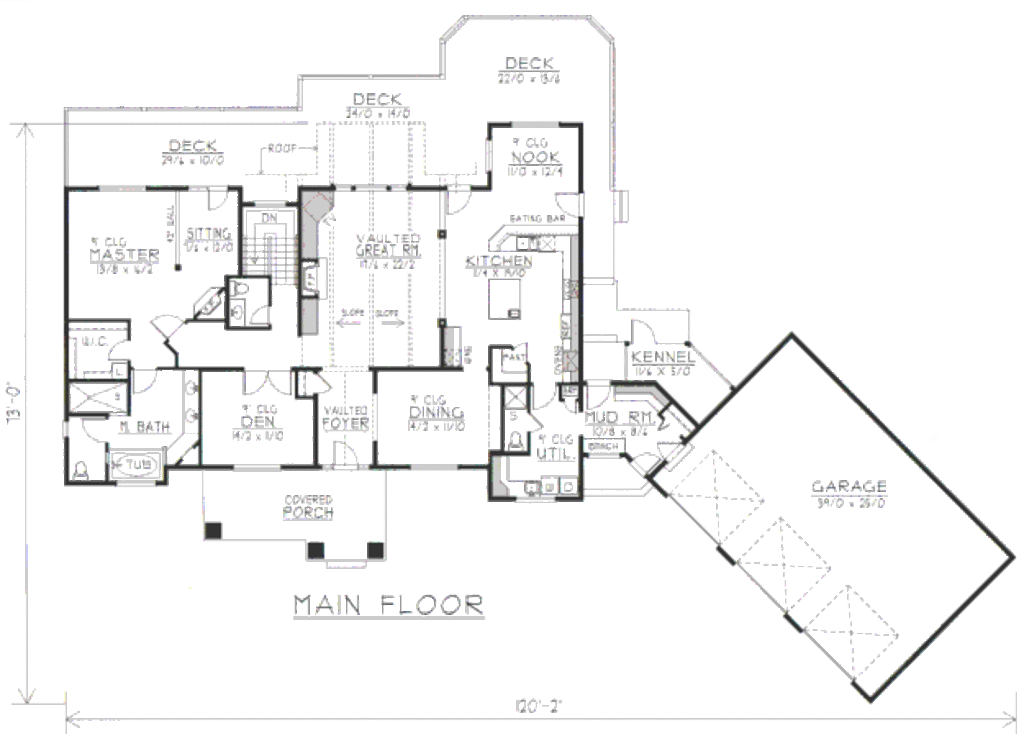door: (246, 365, 295, 398), (143, 308, 189, 341), (620, 316, 662, 350), (624, 447, 662, 483), (297, 363, 337, 397), (201, 178, 234, 216), (583, 377, 615, 411), (442, 183, 474, 216), (77, 413, 114, 441), (333, 435, 361, 471), (656, 441, 692, 467), (557, 187, 588, 217), (130, 367, 163, 395), (530, 383, 557, 408), (101, 338, 132, 359), (251, 301, 272, 323), (526, 407, 543, 432)
large_sink: (66, 455, 95, 481)
small_sink: (179, 371, 204, 429), (224, 297, 249, 327)
stairs: (241, 204, 295, 290)
tub: (105, 447, 173, 483)
window: (335, 181, 408, 194), (93, 181, 156, 194), (225, 462, 284, 473), (507, 119, 563, 129), (402, 463, 459, 472)
